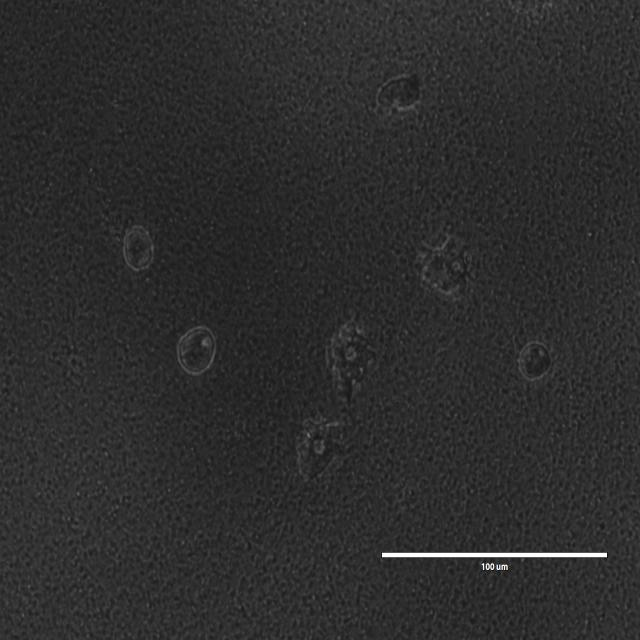Amoeba: (325, 315, 386, 407), (414, 227, 469, 300), (296, 418, 344, 483), (376, 69, 422, 118), (178, 325, 218, 375), (121, 227, 159, 274), (516, 341, 552, 384), (512, 0, 546, 21)
